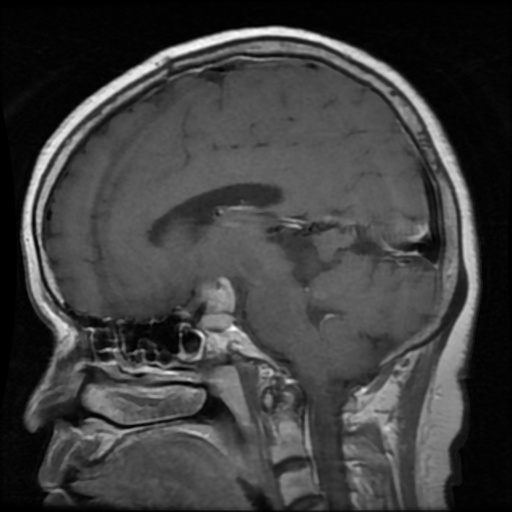pituitary: (201, 278, 235, 328)
